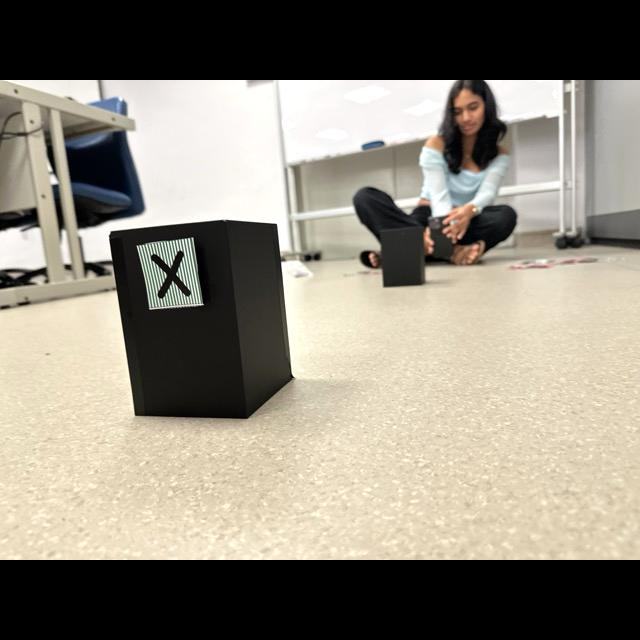X: (151, 251, 191, 298)
